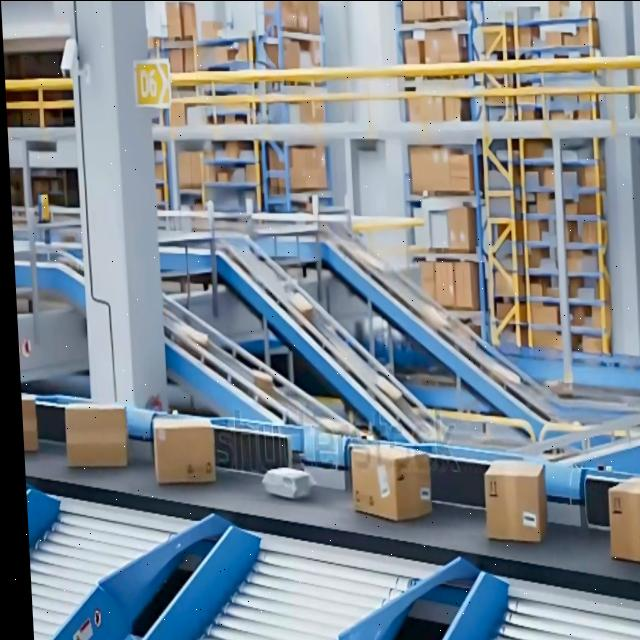product 1: (348, 442, 432, 520), (151, 415, 216, 483), (80, 402, 129, 467)
product 2: (260, 465, 314, 498)
